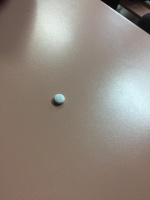Parol: (52, 93, 66, 105)
